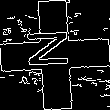N_E: (29, 34, 81, 76)
